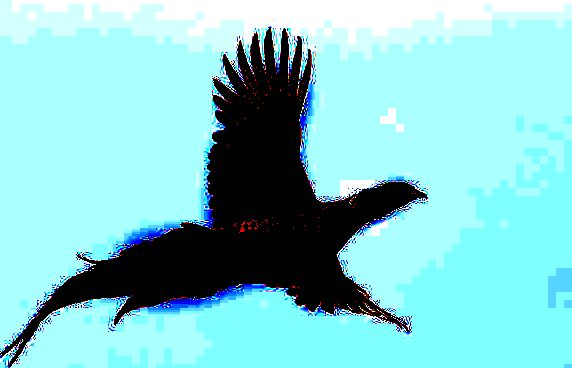Bird: (0, 23, 433, 365)
